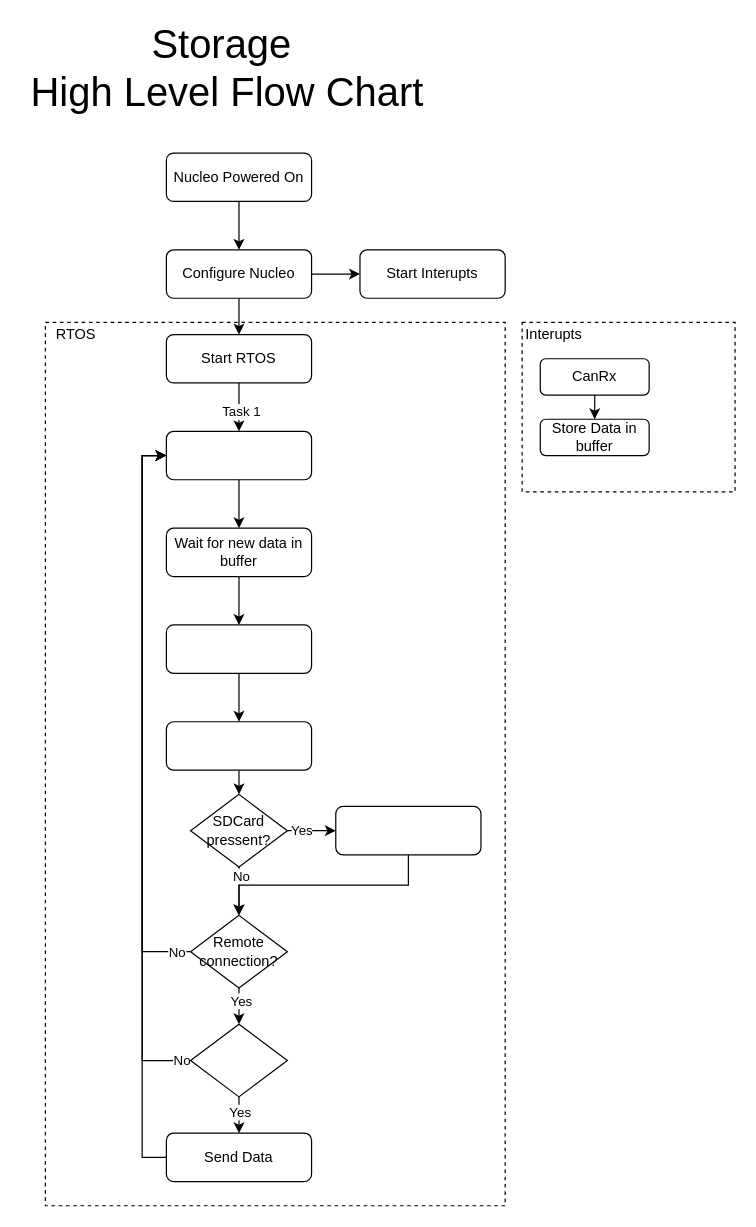
This 756x1227 diagram has some shape labels left out. Each missing label, with the box of its shape:
BLE Buffer Not Full?: (189, 1023, 287, 1097)
Format data: (165, 721, 312, 770)
Get current time stamp from RTC: (165, 624, 312, 673)
Send and Store data: (165, 430, 312, 480)
Store Data on SDCard: (335, 805, 481, 855)
